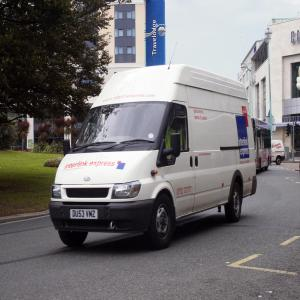Vehicle-registration-plate: (70, 209, 99, 221)
